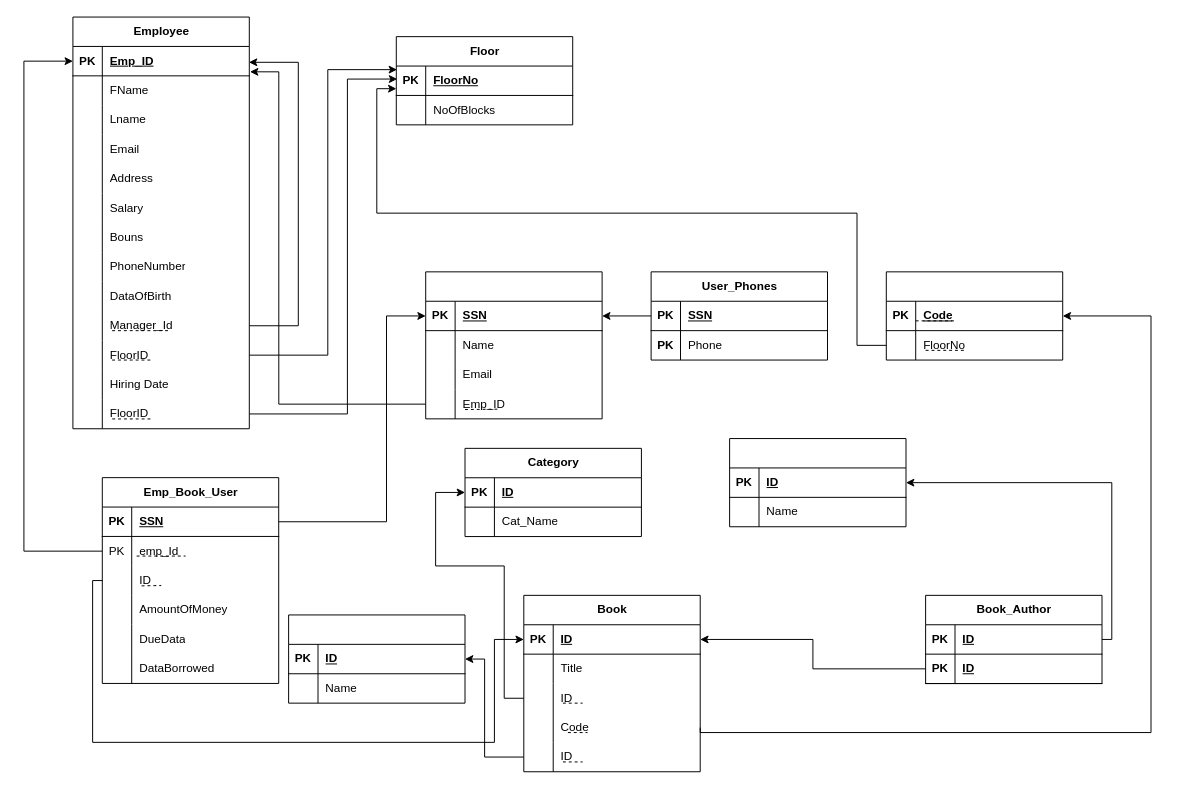
This 1177x790 diagram has some shape labels left out. Each missing label, with the box of its shape:
Author: (729, 438, 906, 527)
Publisher: (288, 614, 465, 703)
Shelf: (885, 271, 1063, 360)
User: (425, 271, 602, 419)
